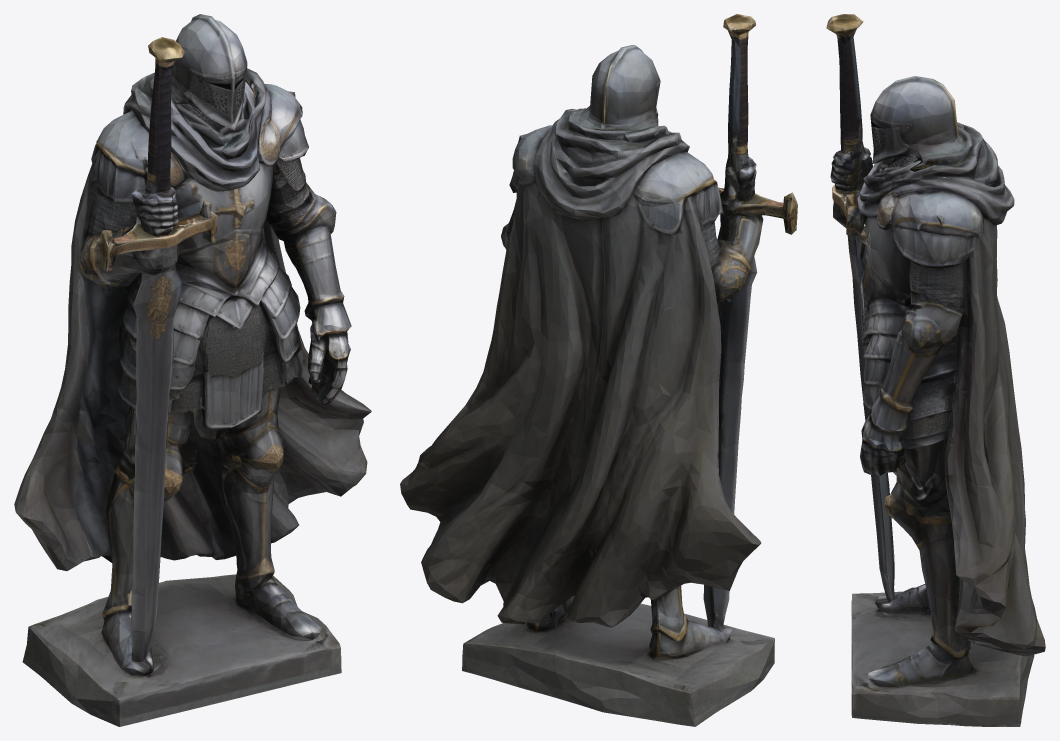
Rendered from a_knight_statue_holdi_0508090200_texture.fbx.
3 renders of one model, left to right at view 1: azimuth 30°, elevation 25°; view 2: azimuth 150°, elevation 25°; view 3: azimuth 270°, elevation 25°, orthographic. The views are drawn at different scales.
Visible parts, largest first — view 1: temp; view 2: temp; view 3: temp.
Boxes of the visible parts, <box> form: temp: <box>14,14,371,726</box>; temp: <box>400,14,797,726</box>; temp: <box>826,14,1045,726</box>.
Bounding box in the file's own units: 112 × 200 × 64.15.
Materials: 1 (1 with a texture image).
